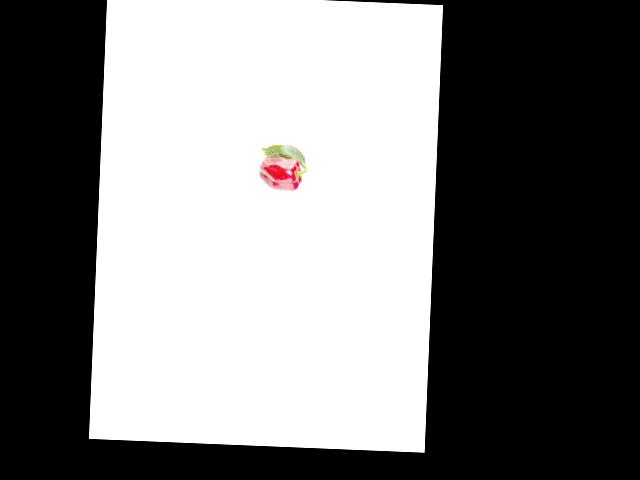bell_pepper: (256, 153, 307, 195)
